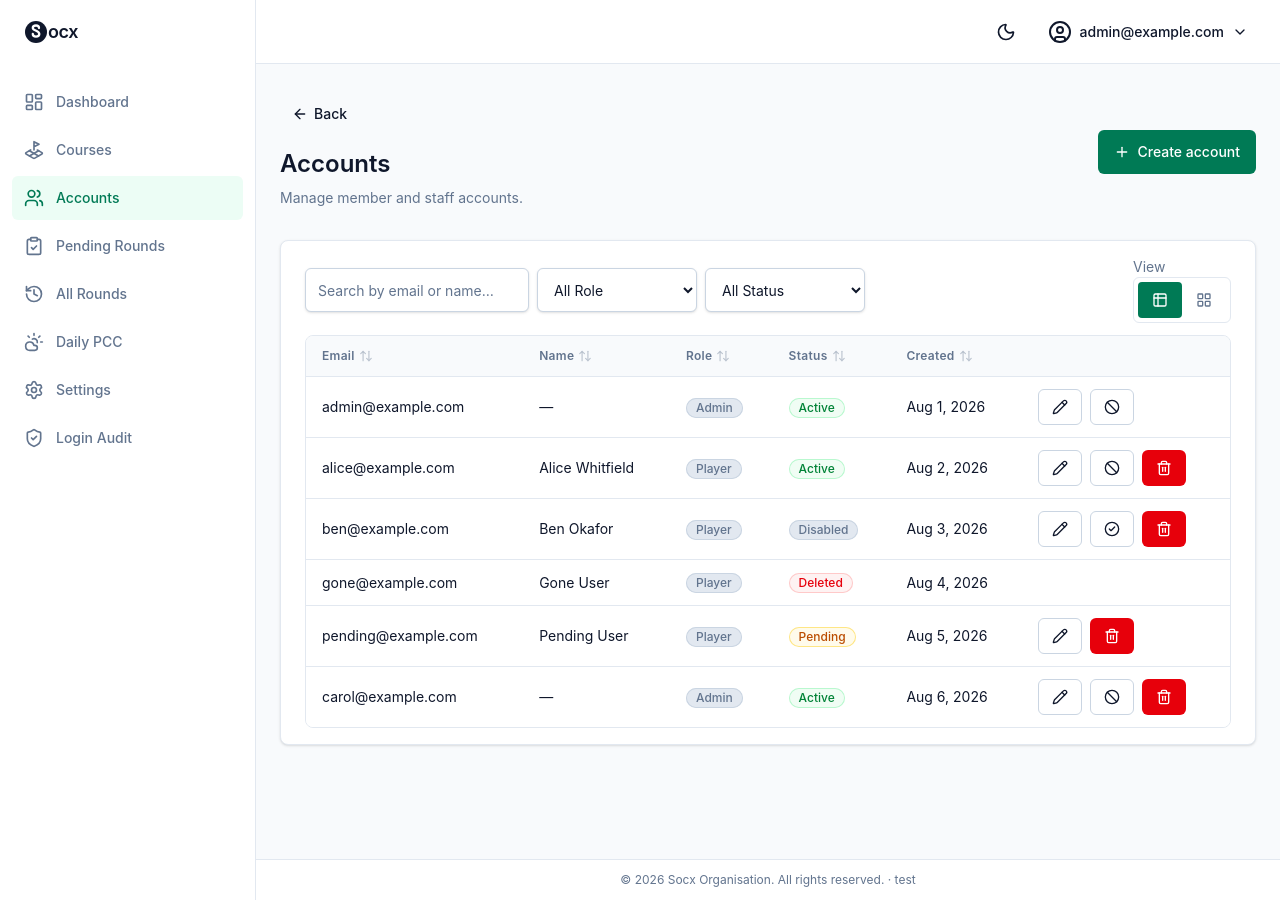
AdminAccountsPage › Edit account (ghs#191) › opens a modal pre-filled with the account's current email and name
Check: the text "alice@example.com" is shown, box [306,438,523,498]
Click the button named "Edit alice@example.com". click: (1060, 468)
box: [1038,450,1082,486]
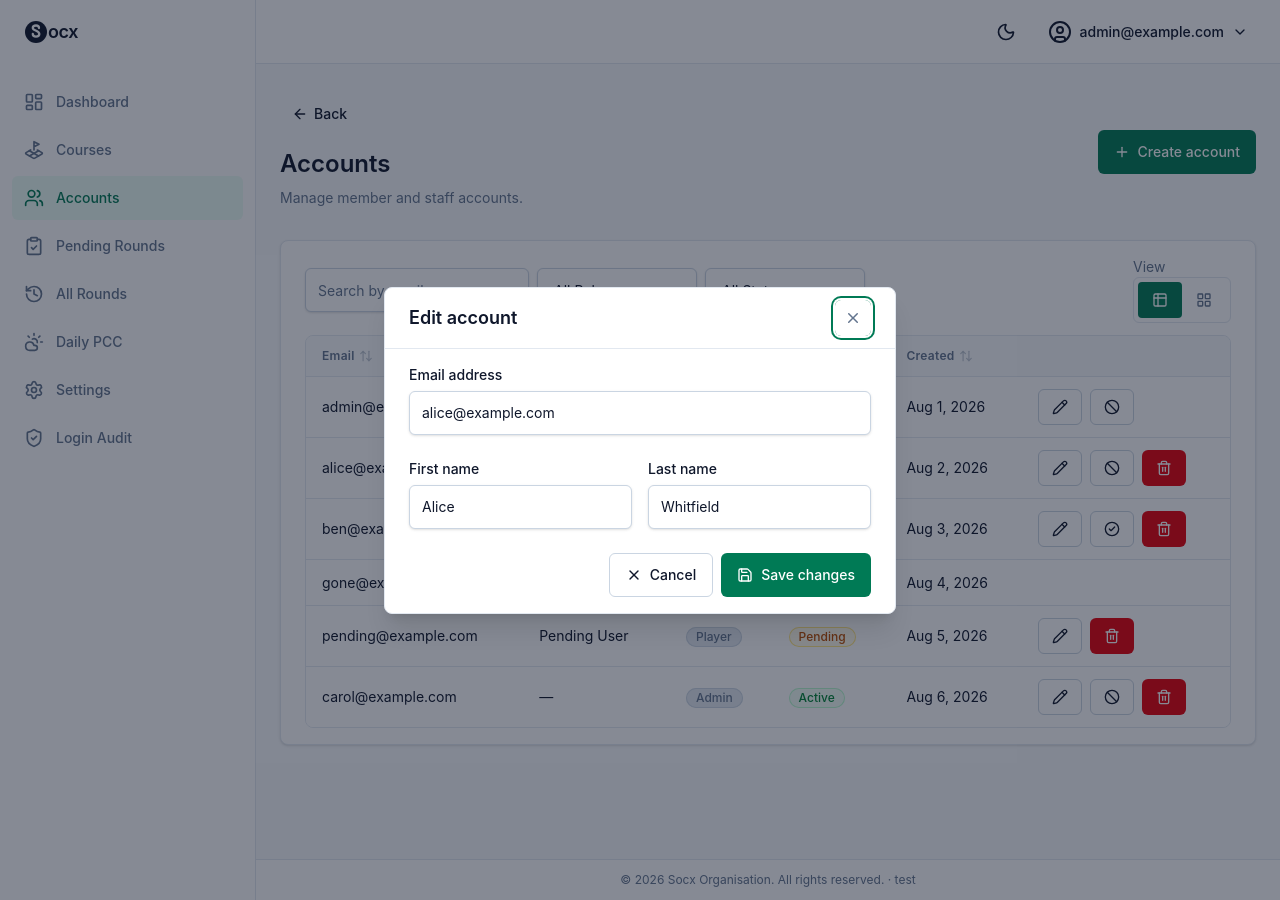
Check: the field labelled "Email address" holds "alice@example.com", box [409,390,871,434]
Check: the field labelled "First name" holds "Alice", box [409,484,632,528]
Check: the field labelled "Last name" holds "Whitfield", box [648,484,871,528]
